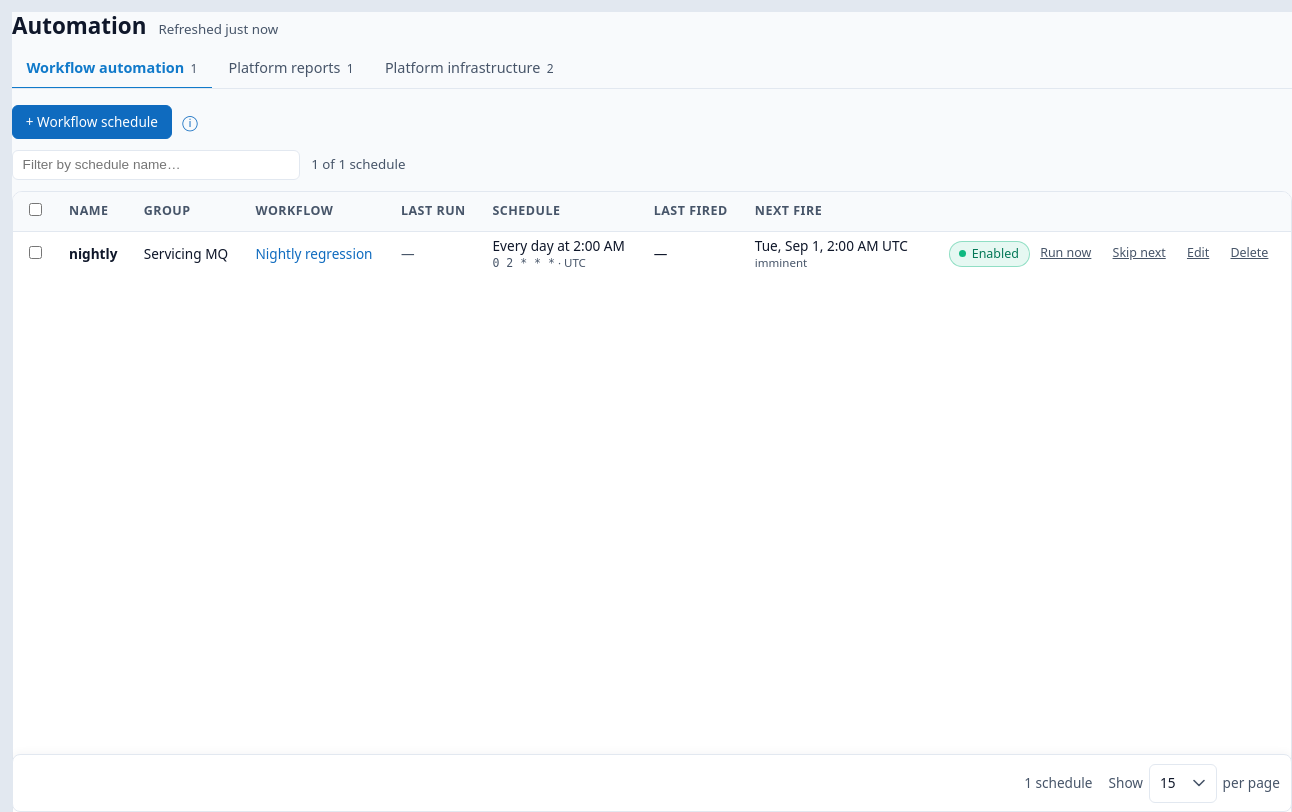
AutomationPage — three sections, group-scoped › files each schedule under the section its kind belongs to
Expected: the element named "Automation sections" is shown, [12, 48, 1291, 89]
Expected: the tab "Workflow automation1" is shown, [12, 48, 212, 89]
Click the tab "Platform reports1": x=291, y=69 [214, 48, 368, 89]
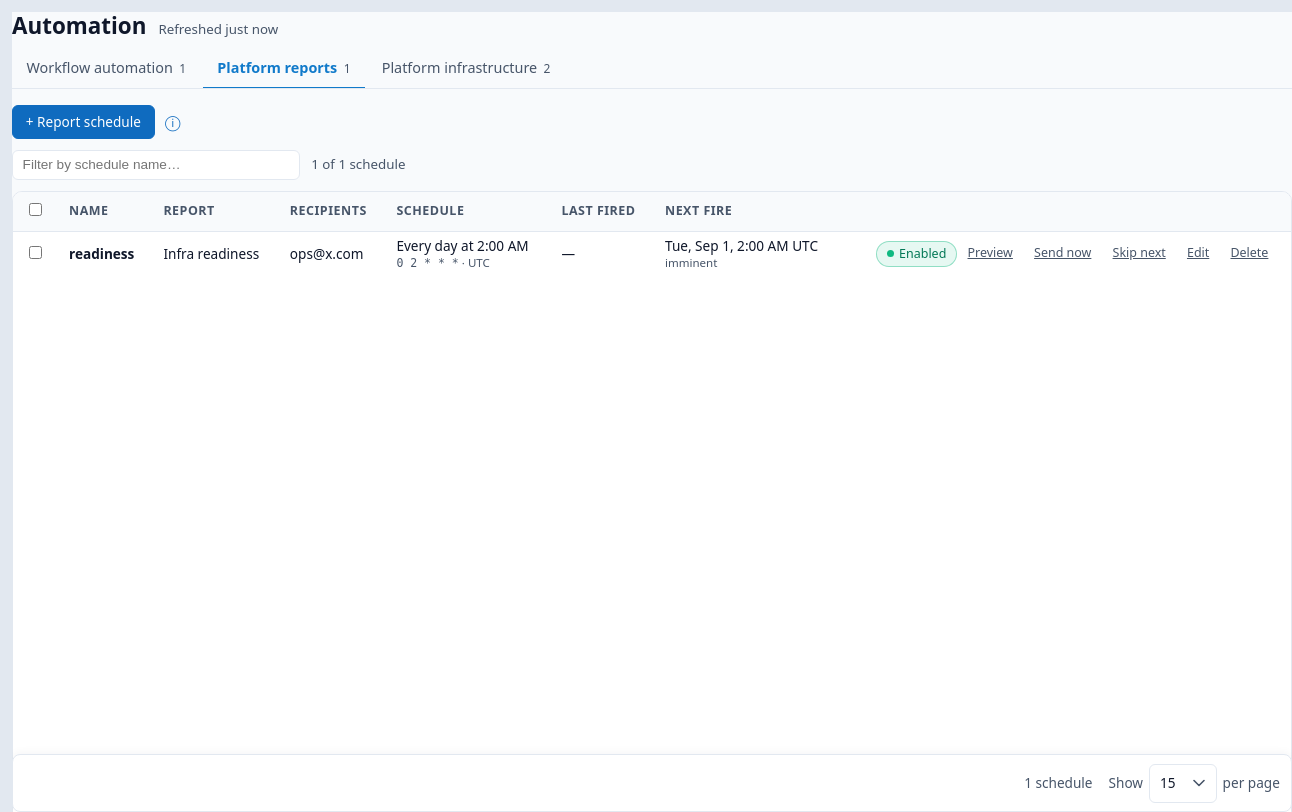
Result: the text "readiness" is shown at [69, 244, 134, 263]
Result: the text "nightly" is gone
Click the tab "Platform infrastructure2": x=466, y=69 [367, 48, 565, 89]
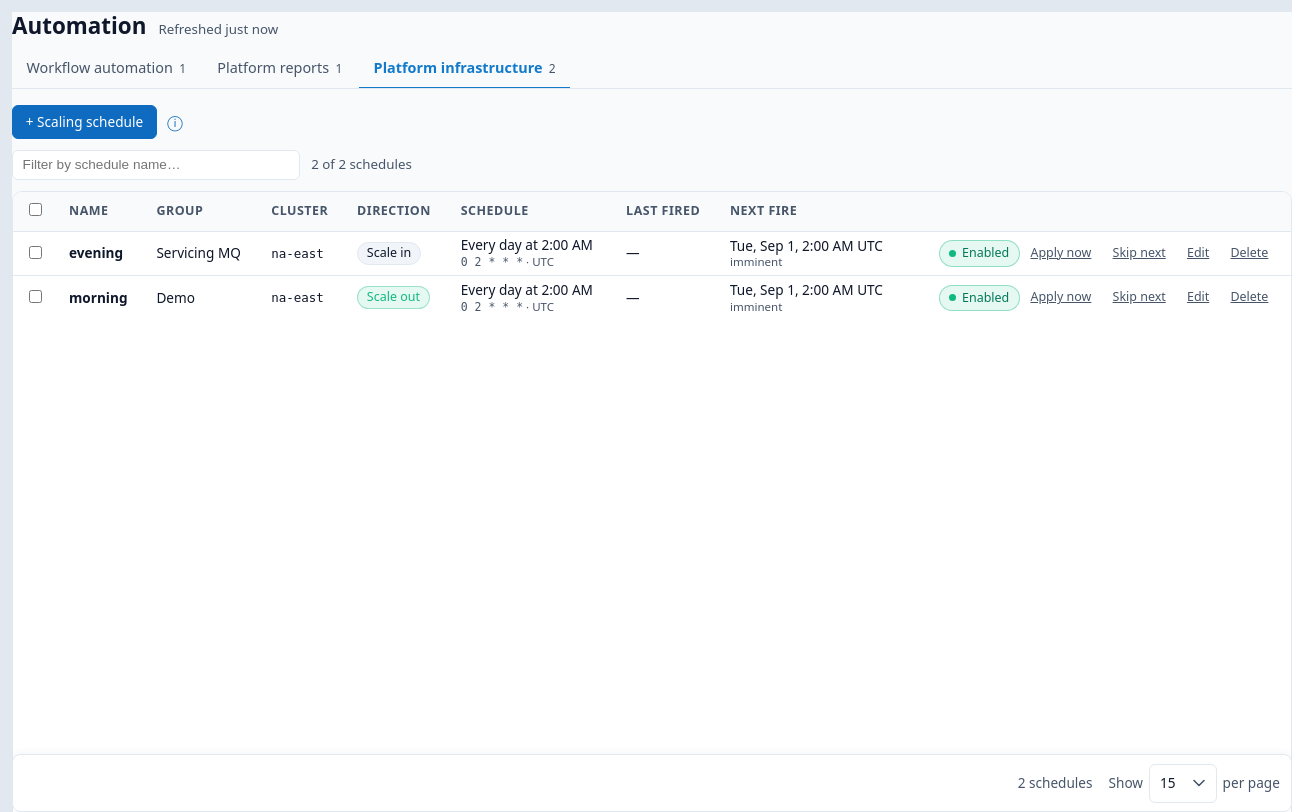
Expected: the text "nightly" is not shown
Result: the text "evening" is shown at [69, 243, 123, 262]
Result: the text "morning" is shown at [69, 288, 128, 307]
